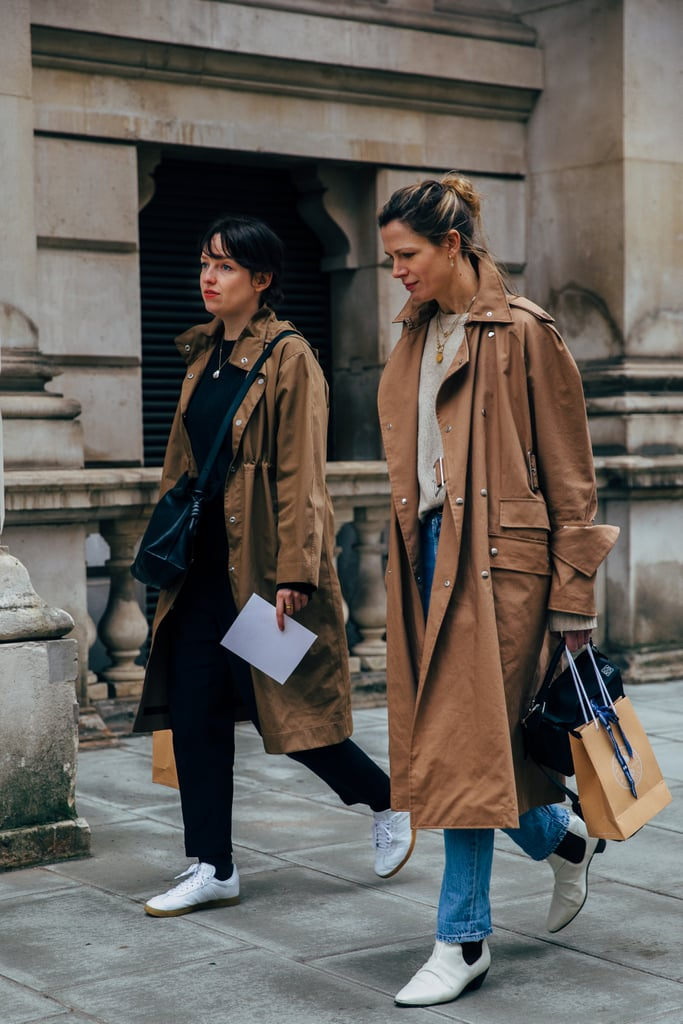Person: (357, 159, 671, 1007), (114, 209, 419, 915)
